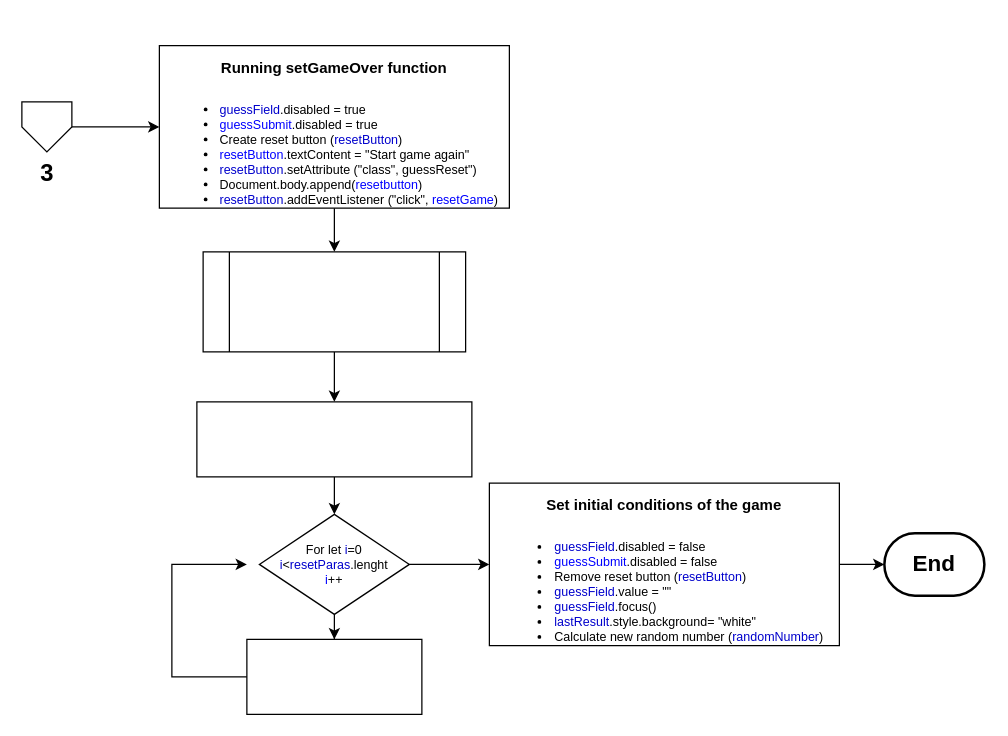
Image size: 1008x736. Some labels were removed from this diagram. Here are the shapes that lost their labels. From the top down, the centre of each, then its label:
(x=334, y=301): Event listener (click event) actived Invoke resetGame Function
(x=334, y=439): guessCount = 1 const resetParas = document.querySelectorAll (".resultParas p")
(x=334, y=676): resetParas[i] .textContent =""
